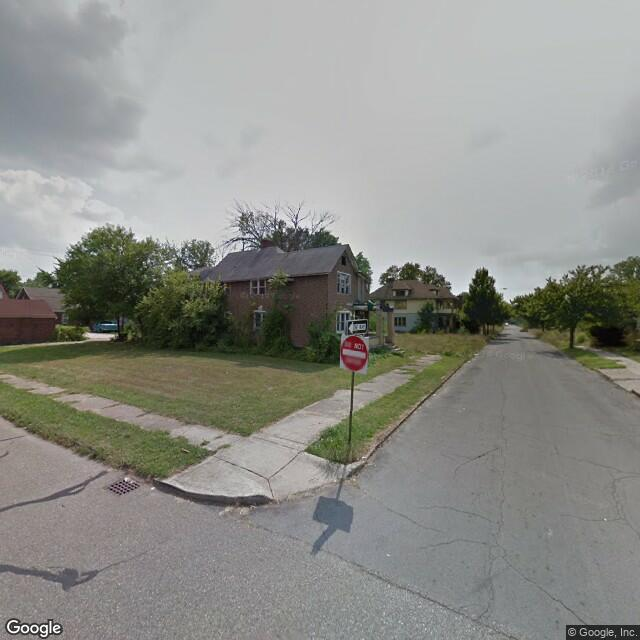litter: (126, 476, 139, 485), (150, 486, 158, 492), (361, 456, 367, 463), (353, 475, 357, 484), (474, 351, 476, 354)
